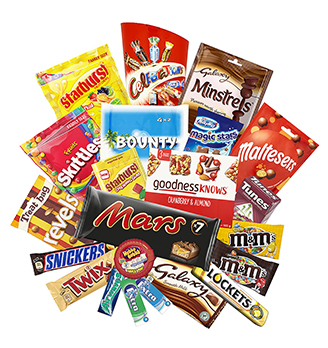snickers: (43, 242, 103, 269)
